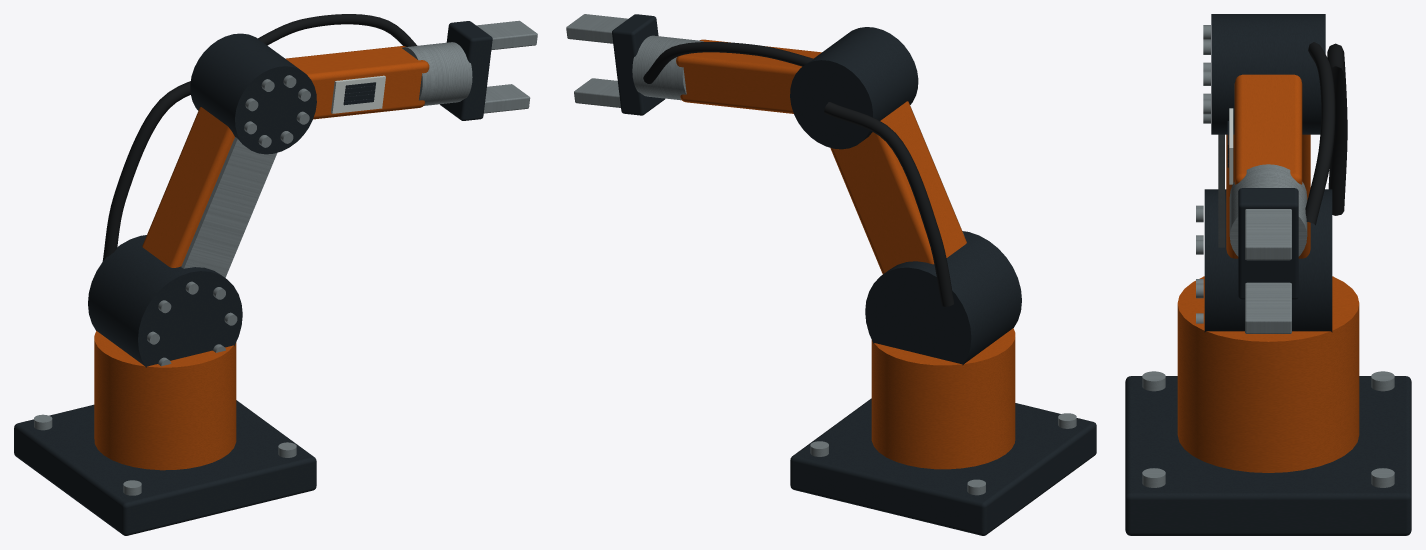
The model's file is robot-arm.d9ff1d7f75f4.glb.
The picture shows the model from 3 angles, left to right: view 1: azimuth 30°, elevation 25°; view 2: azimuth 150°, elevation 25°; view 3: azimuth 270°, elevation 25°; orthographic projection. The views are drawn at different scales.
Visible parts, largest first — view 1: anchored_base_0001, pedestal_0006, shoulder_0007, elbow_joint_0017, upper_link_0016, arm_cover_0026, fore_link_0028, wrist_0036, gripper_mount_0037, arm_cable_0027, tool_supply_hose_0029, gripper_finger_0038 (+2 smaller); view 2: anchored_base_0001, pedestal_0006, shoulder_0007, upper_link_0016, elbow_joint_0017, fore_link_0028, arm_cable_0027, gripper_mount_0037, wrist_0036, tool_supply_hose_0029, gripper_finger_0038, gripper_finger_0039; view 3: anchored_base_0001, pedestal_0006, elbow_joint_0017, shoulder_0007, fore_link_0028, gripper_mount_0037, tool_supply_hose_0029, arm_cable_0027, gripper_finger_0038, gripper_finger_0039, wrist_0036, upper_link_0016 (+6 smaller).
Boxes of the visible parts, x1=… form: anchored_base_0001: x1=14, y1=400, x2=316, y2=535; pedestal_0006: x1=94, y1=331, x2=236, y2=470; shoulder_0007: x1=88, y1=235, x2=242, y2=367; elbow_joint_0017: x1=190, y1=33, x2=316, y2=154; upper_link_0016: x1=142, y1=107, x2=234, y2=267; arm_cover_0026: x1=181, y1=137, x2=277, y2=277; fore_link_0028: x1=285, y1=46, x2=429, y2=119; wrist_0036: x1=402, y1=42, x2=472, y2=105; gripper_mount_0037: x1=440, y1=21, x2=492, y2=120; arm_cable_0027: x1=102, y1=81, x2=190, y2=261; tool_supply_hose_0029: x1=257, y1=14, x2=417, y2=46; gripper_finger_0038: x1=476, y1=20, x2=537, y2=50; anchored_base_0001: x1=790, y1=398, x2=1096, y2=535; pedestal_0006: x1=871, y1=328, x2=1015, y2=469; shoulder_0007: x1=865, y1=231, x2=1021, y2=365; upper_link_0016: x1=830, y1=101, x2=966, y2=274; elbow_joint_0017: x1=790, y1=27, x2=918, y2=149; fore_link_0028: x1=676, y1=39, x2=821, y2=113; arm_cable_0027: x1=824, y1=102, x2=954, y2=306; gripper_mount_0037: x1=612, y1=14, x2=664, y2=115; wrist_0036: x1=632, y1=35, x2=703, y2=100; tool_supply_hose_0029: x1=643, y1=42, x2=813, y2=83; gripper_finger_0038: x1=566, y1=14, x2=628, y2=43; gripper_finger_0039: x1=574, y1=78, x2=620, y2=107; anchored_base_0001: x1=1125, y1=376, x2=1411, y2=535; pedestal_0006: x1=1177, y1=276, x2=1359, y2=472; elbow_joint_0017: x1=1211, y1=14, x2=1325, y2=134; shoulder_0007: x1=1204, y1=189, x2=1332, y2=332; fore_link_0028: x1=1234, y1=74, x2=1302, y2=184; gripper_mount_0037: x1=1238, y1=188, x2=1298, y2=299; tool_supply_hose_0029: x1=1305, y1=42, x2=1335, y2=225; arm_cable_0027: x1=1327, y1=43, x2=1347, y2=215; gripper_finger_0038: x1=1245, y1=209, x2=1291, y2=260; gripper_finger_0039: x1=1245, y1=282, x2=1291, y2=333; wrist_0036: x1=1229, y1=164, x2=1307, y2=256; upper_link_0016: x1=1226, y1=134, x2=1310, y2=258.
Bounding box in the file's own units: 2.02 × 1.68 × 0.85.
5 materials, 3 textured.
